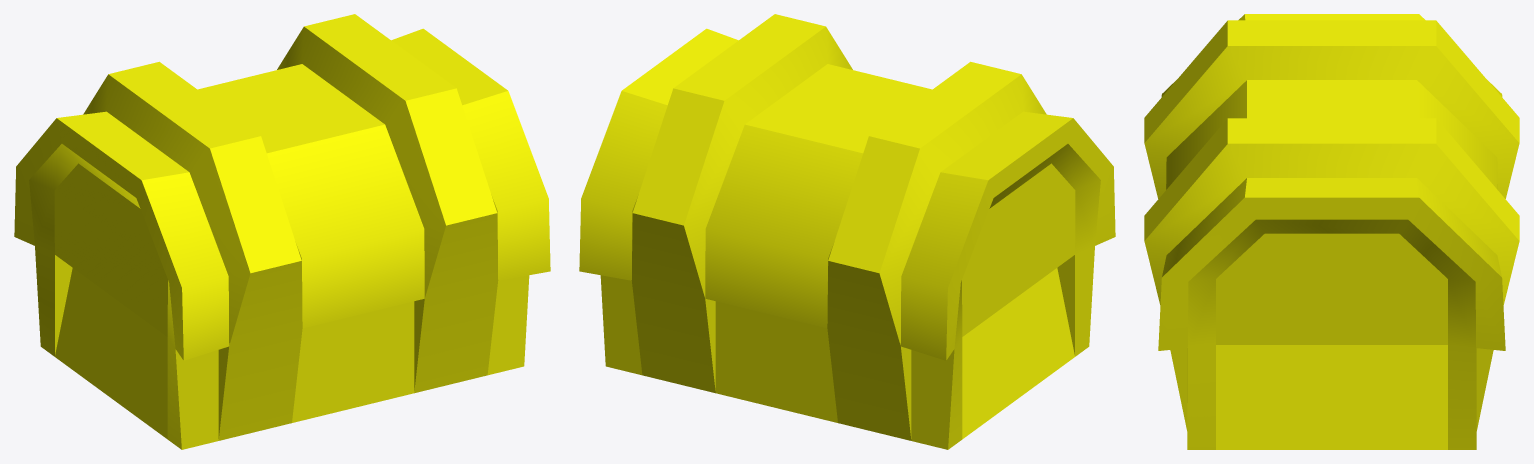
Rendered from kaykit-trunk-small-c.glb.
3 views of the same model, side by side, from view 1: azimuth 30°, elevation 25°; view 2: azimuth 150°, elevation 25°; view 3: azimuth 270°, elevation 25° (orthographic). The views are drawn at different scales.
Visible parts, largest first — view 1: trunk_small_C; view 2: trunk_small_C; view 3: trunk_small_C.
Boxes of the visible parts, x1=… form: trunk_small_C: x1=14, y1=14, x2=550, y2=449; trunk_small_C: x1=579, y1=14, x2=1115, y2=449; trunk_small_C: x1=1144, y1=14, x2=1519, y2=449.
Bounding box in the file's own units: 0.6754 × 0.4843 × 0.5834.
